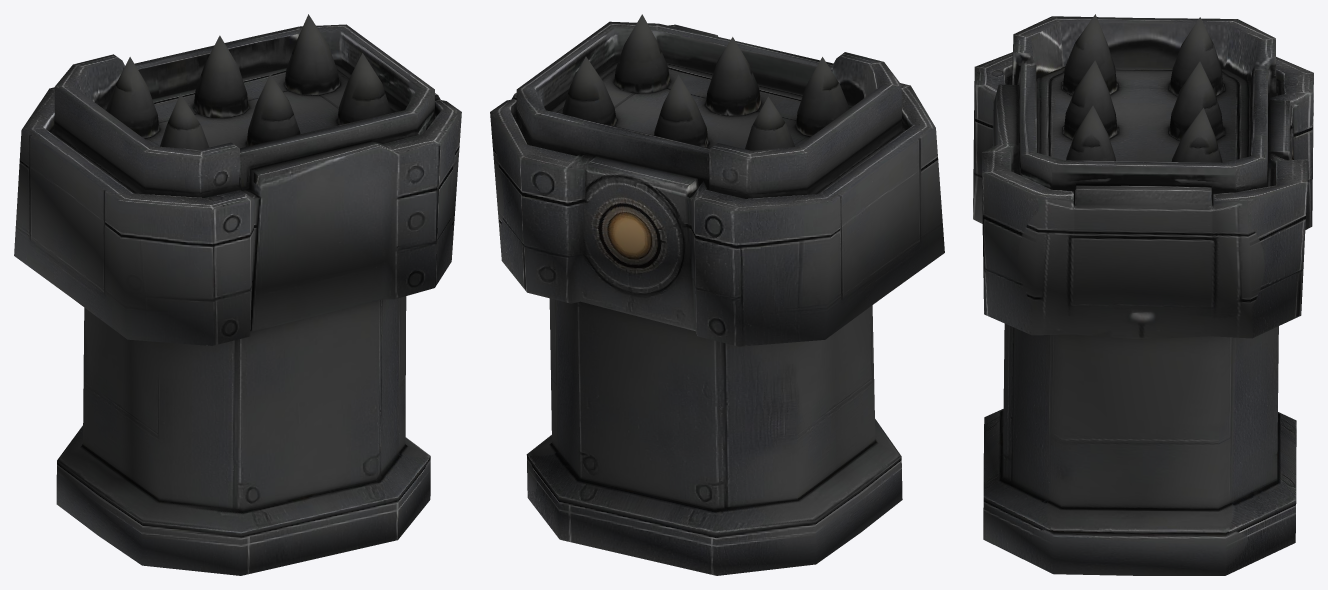
Rendered from cold-iron-v2-weapon-c-missile-pod.glb.
3 renders of one model, left to right at view 1: azimuth 30°, elevation 25°; view 2: azimuth 150°, elevation 25°; view 3: azimuth 270°, elevation 25°, orthographic.
Visible parts, largest first — view 1: tripo_node_0401d42a-bc30-4bdd-9dba-bc6e02587df4; view 2: tripo_node_0401d42a-bc30-4bdd-9dba-bc6e02587df4; view 3: tripo_node_0401d42a-bc30-4bdd-9dba-bc6e02587df4.
Boxes of the visible parts, bbox=[...] form: tripo_node_0401d42a-bc30-4bdd-9dba-bc6e02587df4: bbox=[14, 14, 461, 575]; tripo_node_0401d42a-bc30-4bdd-9dba-bc6e02587df4: bbox=[490, 14, 944, 575]; tripo_node_0401d42a-bc30-4bdd-9dba-bc6e02587df4: bbox=[973, 14, 1313, 575].
Bounding box in the file's own units: 0.8081 × 1.01 × 0.6927.
Materials: 1 (1 with a texture image).
